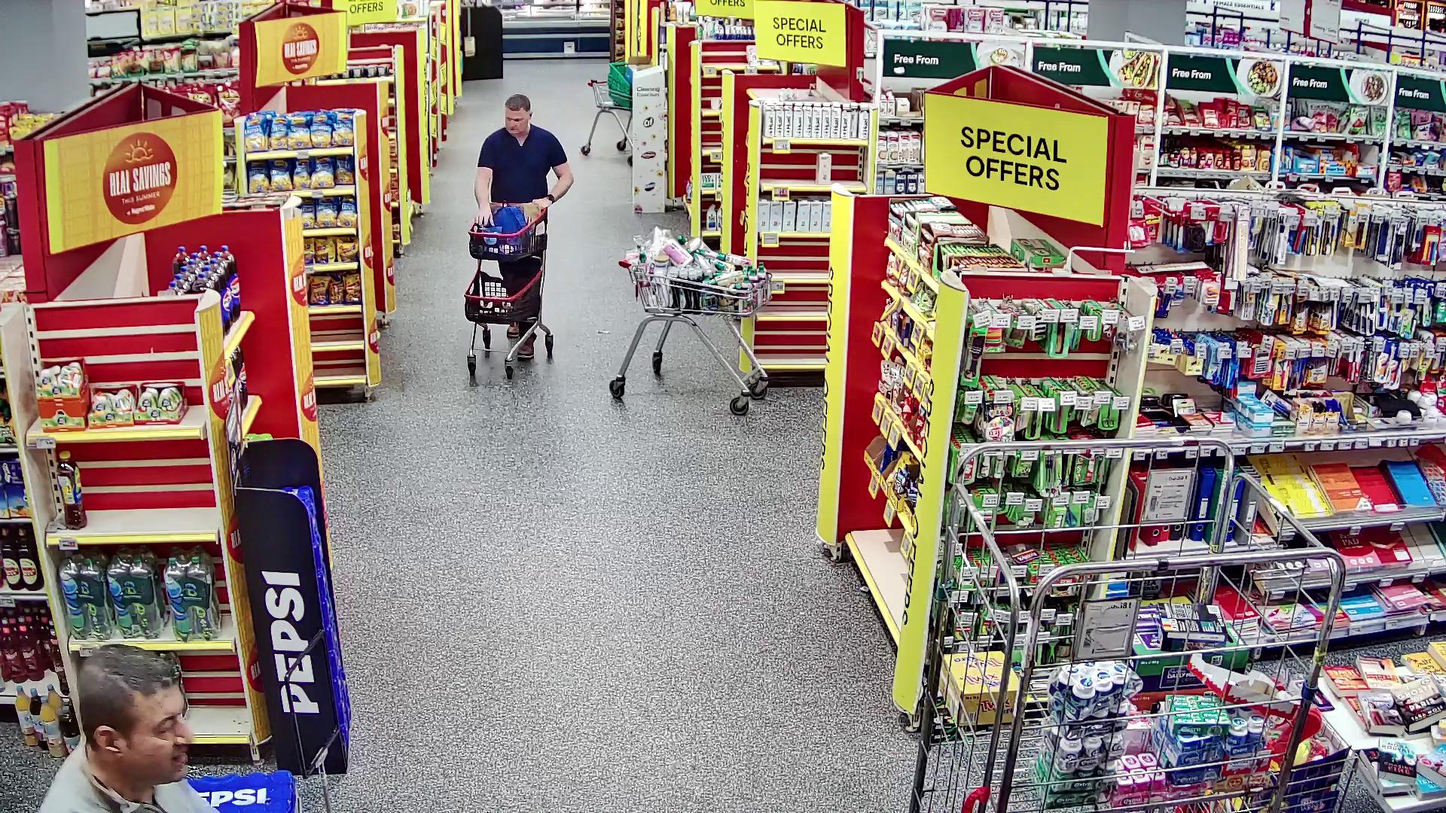filled-trolly: (464, 202, 554, 378)
person: (474, 93, 574, 359)
person-with-filled-basket-trolly: (464, 95, 574, 379)
